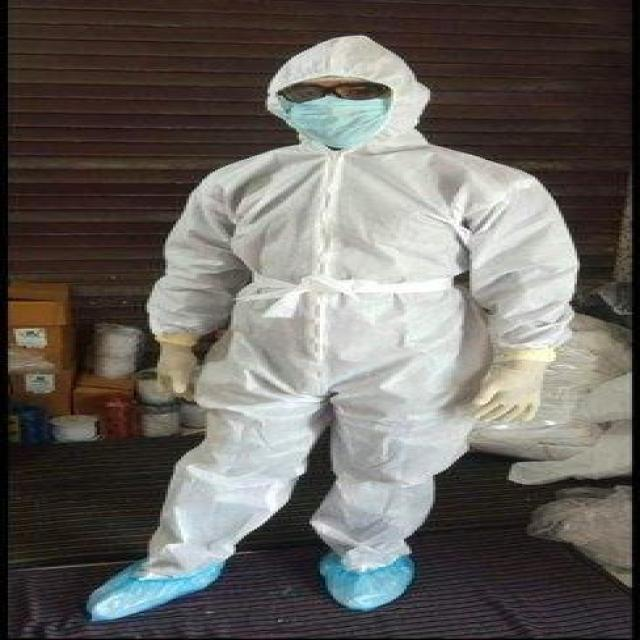Coverall: (55, 28, 593, 626)
Gloves: (465, 358, 562, 425), (152, 341, 205, 396)
Goggles: (273, 82, 386, 104)
Mask: (265, 95, 396, 141)
